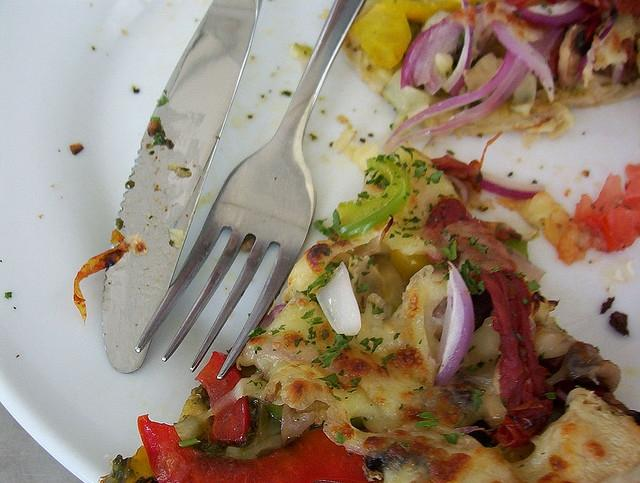tomato: (137, 414, 383, 482), (574, 164, 640, 253), (209, 396, 260, 448)
